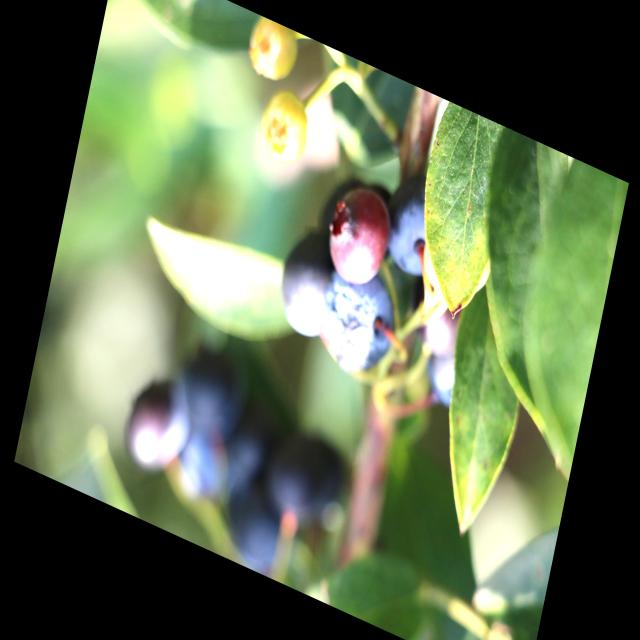blueberry: (312, 257, 408, 391), (257, 410, 355, 540), (268, 210, 356, 352), (115, 352, 205, 490), (169, 334, 259, 460), (216, 370, 299, 503), (215, 457, 302, 583), (375, 168, 448, 290), (417, 339, 471, 420)
blueberry-halfripe: (321, 176, 397, 304)
blueberry-unripe: (252, 79, 316, 175), (240, 11, 299, 90)
